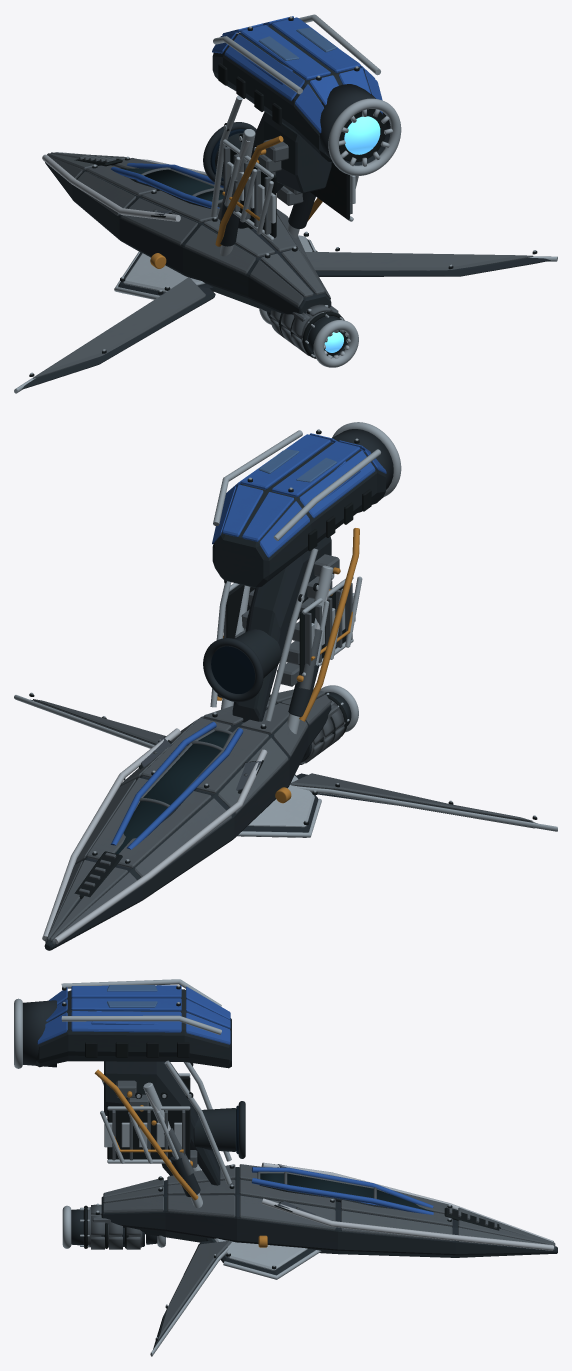
File: spearhead.glb
3 renders of one model, top to bottom at view 1: azimuth 30°, elevation 25°; view 2: azimuth 150°, elevation 25°; view 3: azimuth 270°, elevation 25°, orthographic. The views are drawn at different scales.
Parts seen in each view (by area): view 1: spearhead.001; view 2: spearhead.001; view 3: spearhead.001.
Part boxes in pixels (box(x1,y1,x2,y2)): spearhead.001: box(14, 14, 557, 393); spearhead.001: box(14, 422, 557, 950); spearhead.001: box(14, 979, 557, 1356).
Size of the model in its own units: 4.59 by 2.46 by 4.68.
12 materials, 12 textured.
